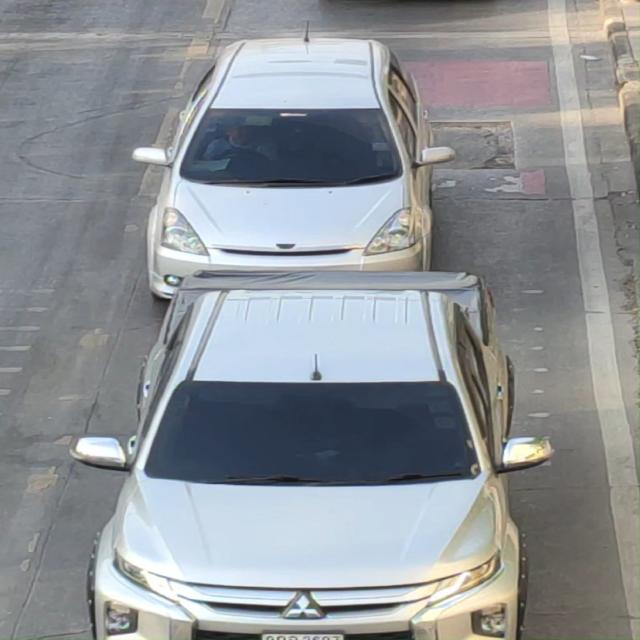car: (67, 265, 556, 640), (123, 24, 495, 288)
